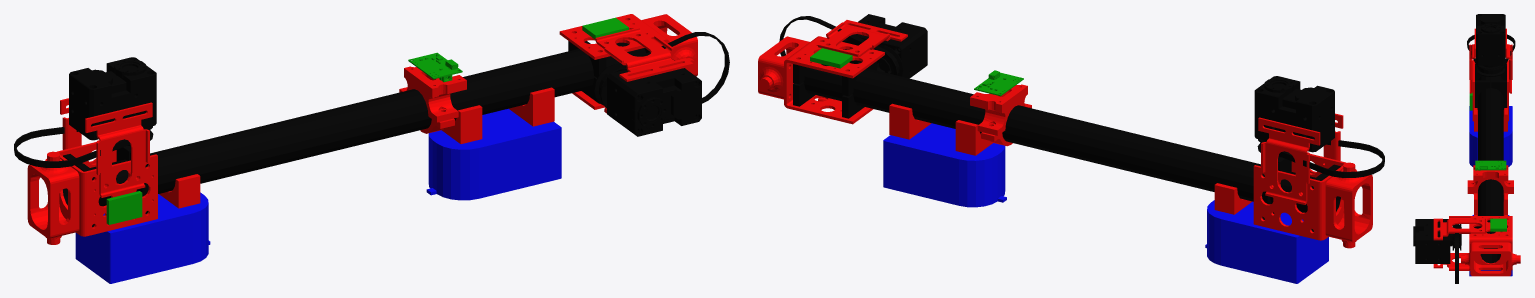
Rendered from ducted_fan_general_link.dae.
The picture shows the model from 3 angles, left to right: view 1: azimuth 30°, elevation 25°; view 2: azimuth 150°, elevation 25°; view 3: azimuth 270°, elevation 25°; orthographic projection. The views are drawn at different scales.
Visible parts, largest first — view 1: Red, Black_Nonmetal, Blue, Black_Metal, Green; view 2: Red, Black_Nonmetal, Blue, Black_Metal, Green; view 3: Red, Black_Metal, Black_Nonmetal, Blue, Green.
Boxes of the visible parts, x1=… form: Red: x1=27, y1=14, x2=697, y2=244; Black_Nonmetal: x1=14, y1=32, x2=729, y2=206; Blue: x1=75, y1=108, x2=561, y2=283; Black_Metal: x1=63, y1=41, x2=701, y2=227; Green: x1=106, y1=17, x2=628, y2=224; Red: x1=758, y1=20, x2=1372, y2=248; Black_Nonmetal: x1=779, y1=16, x2=1384, y2=212; Blue: x1=883, y1=123, x2=1328, y2=283; Black_Metal: x1=793, y1=14, x2=1340, y2=231; Green: x1=810, y1=48, x2=1023, y2=96; Red: x1=1433, y1=28, x2=1520, y2=276; Black_Metal: x1=1413, y1=14, x2=1507, y2=263; Black_Nonmetal: x1=1455, y1=34, x2=1515, y2=283; Blue: x1=1469, y1=106, x2=1512, y2=276; Green: x1=1469, y1=92, x2=1506, y2=231.
Bounding box in the file's own units: 0.471 × 0.1042 × 0.1327.
